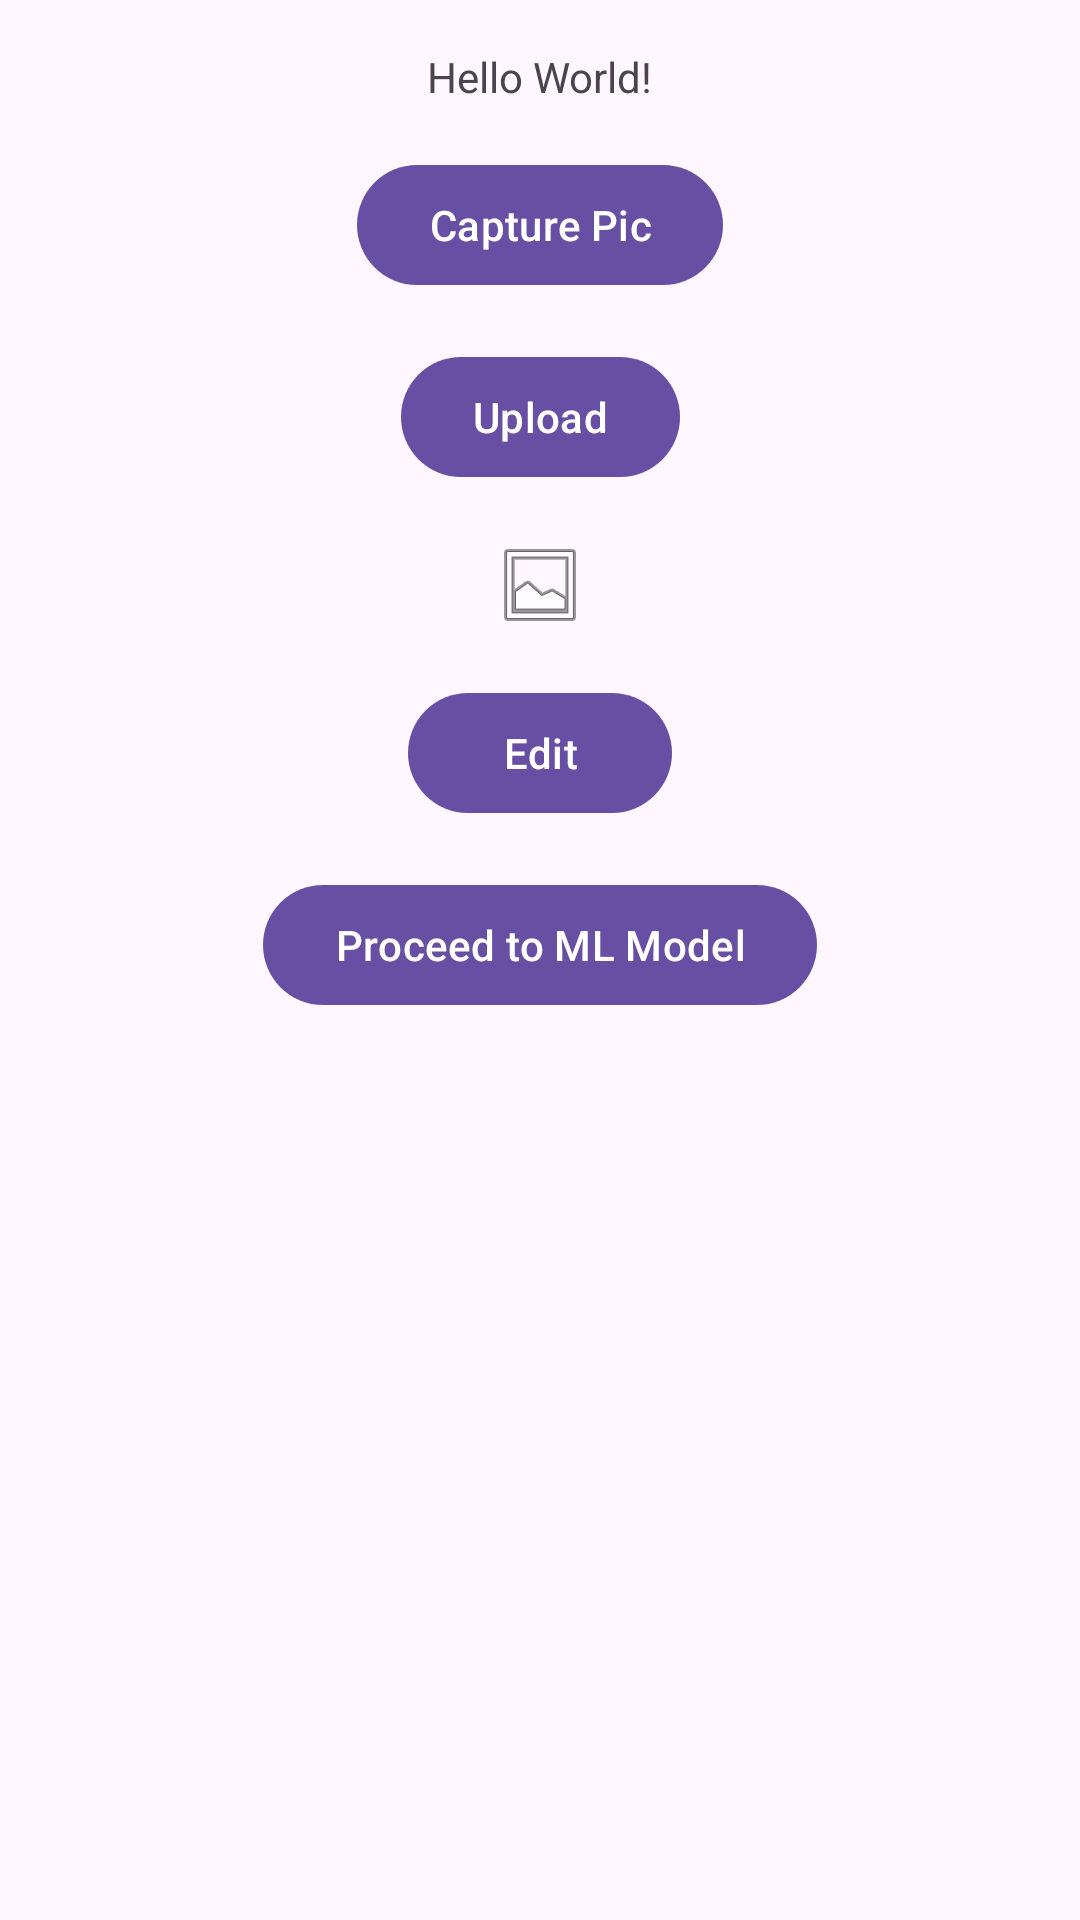

Where to tap for icons on this 1080*1920 app screen, as (x=x, y=y):
gallery: (x=540, y=585)
